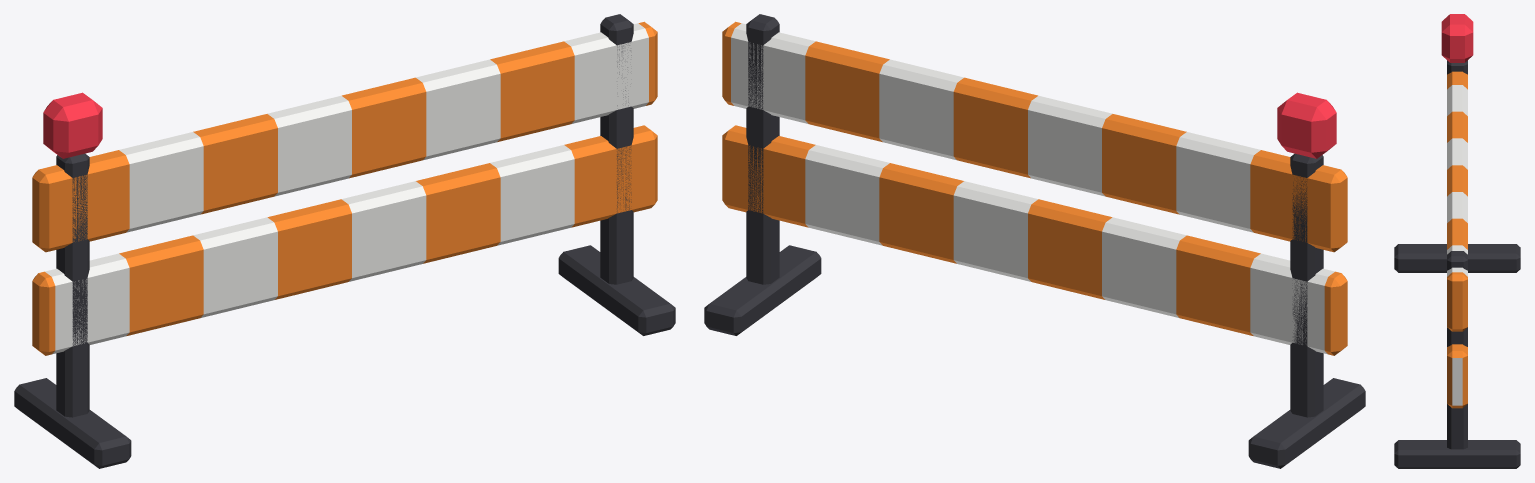
File: RoadBarrier.fbx
The picture shows the model from 3 angles, left to right: view 1: azimuth 30°, elevation 25°; view 2: azimuth 150°, elevation 25°; view 3: azimuth 270°, elevation 25°; orthographic projection. The views are drawn at different scales.
Visible parts, largest first — view 1: RoadBarrier; view 2: RoadBarrier; view 3: RoadBarrier.
Boxes of the visible parts, bbox=[...] form: RoadBarrier: bbox=[14, 14, 675, 468]; RoadBarrier: bbox=[704, 14, 1365, 468]; RoadBarrier: bbox=[1394, 14, 1520, 468].
Size of the model in its own units: 5 by 2.6 by 1.2.
Materials: 1 (1 with a texture image).
